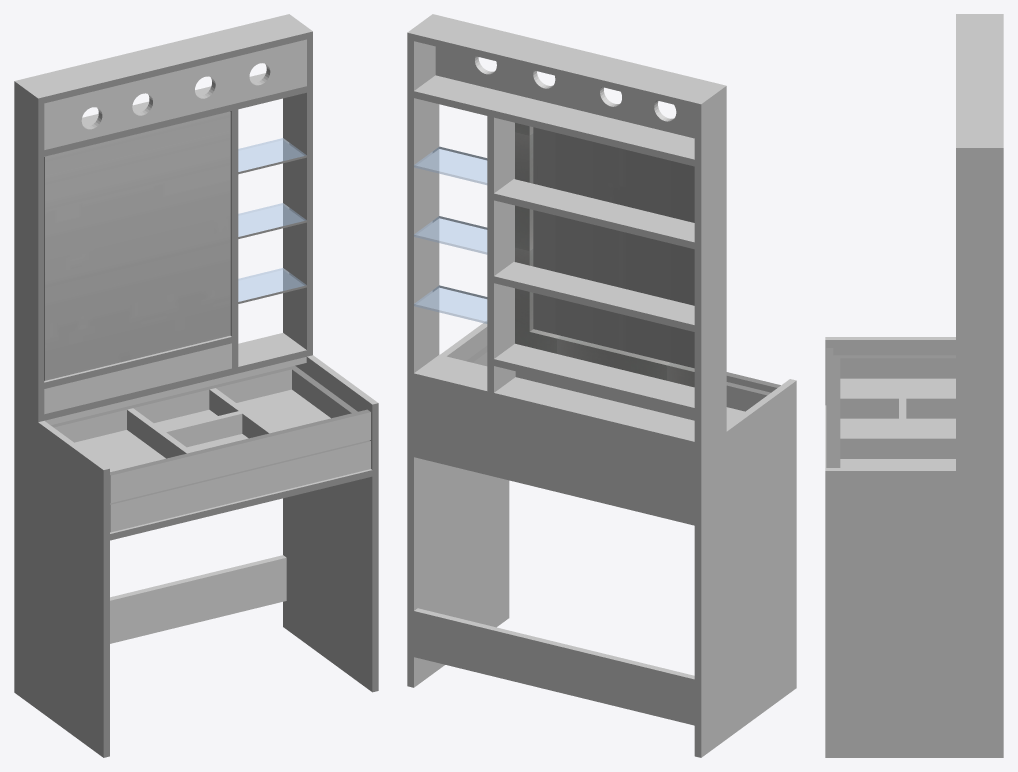
The model's file is toc.glb.
The picture shows the model from 3 angles, left to right: view 1: azimuth 30°, elevation 25°; view 2: azimuth 150°, elevation 25°; view 3: azimuth 270°, elevation 25°; orthographic projection. The views are drawn at different scales.
Visible parts, largest first — view 1: root; view 2: root; view 3: root.
Boxes of the visible parts, x1,y1,x2,y2 form: root: [14, 14, 378, 757]; root: [407, 14, 796, 757]; root: [825, 14, 1003, 757].
Bounding box in the file's own units: 0.8 × 1.7 × 0.45.
5 materials, 2 textured.
